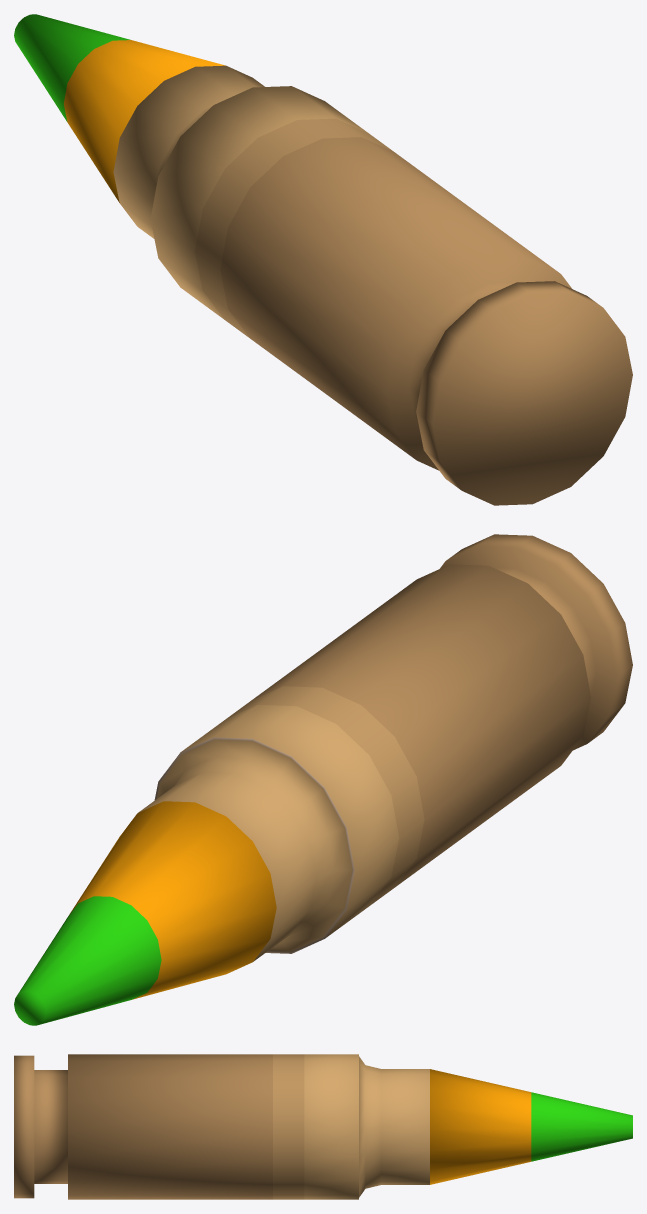
Rendered from Bala.fbx.
The picture shows the model from 3 angles, top to bottom: view 1: azimuth 30°, elevation 25°; view 2: azimuth 150°, elevation 25°; view 3: azimuth 270°, elevation 25°; orthographic projection. The views are drawn at different scales.
Visible parts, largest first — view 1: Bala; view 2: Bala; view 3: Bala.
Boxes of the visible parts, bbox=[...] form: Bala: bbox=[14, 14, 632, 505]; Bala: bbox=[14, 534, 632, 1025]; Bala: bbox=[14, 1054, 632, 1199].
Bounding box in the file's own units: 17.79 × 17.79 × 75.79.
Materials: 1 (1 with a texture image).
